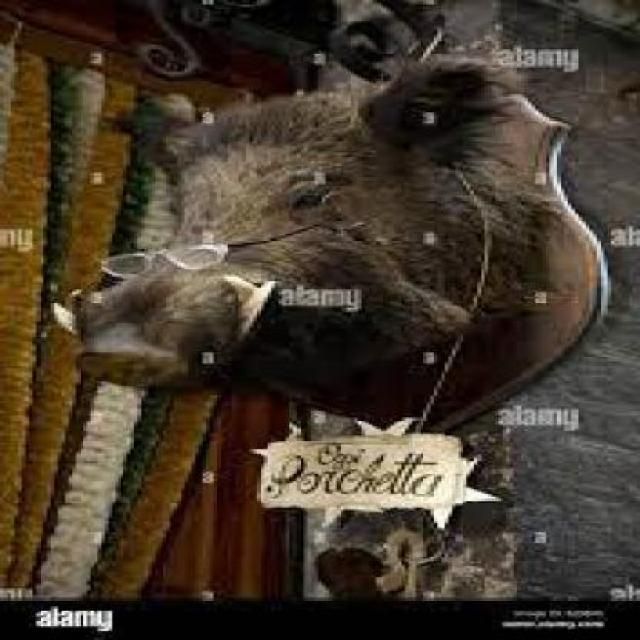wildboar: (38, 50, 514, 432)
